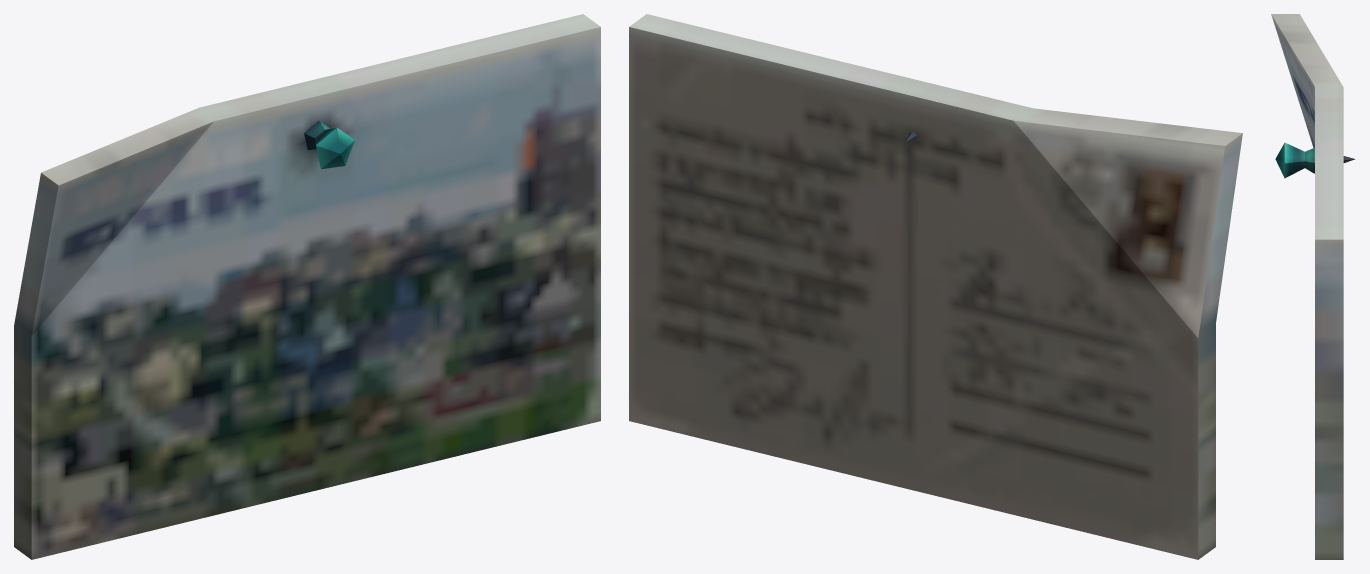
The model's file is postal1.1.fbx.
The picture shows the model from 3 angles, left to right: view 1: azimuth 30°, elevation 25°; view 2: azimuth 150°, elevation 25°; view 3: azimuth 270°, elevation 25°; orthographic projection. The views are drawn at different scales.
Visible parts, largest first — view 1: s4studio_mesh_0; view 2: s4studio_mesh_0; view 3: s4studio_mesh_0.
Boxes of the visible parts, x1,y1,x2,y2 form: s4studio_mesh_0: [14, 14, 600, 559]; s4studio_mesh_0: [629, 14, 1242, 559]; s4studio_mesh_0: [1271, 14, 1355, 559].
Size of the model in its own units: 24.03 by 15.9 by 3.81.
1 material, 1 textured.
